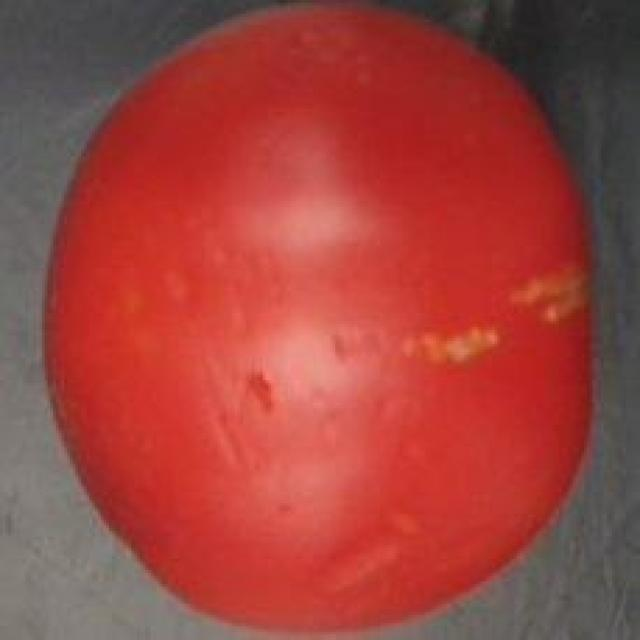ripe tomato: (34, 3, 604, 640)
